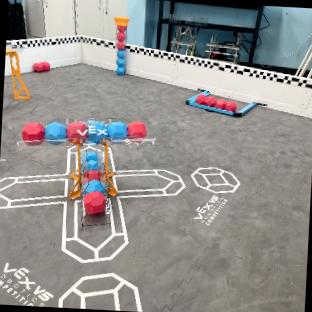Goal: (5, 49, 29, 99)
Med_goal: (16, 117, 155, 198)
Parking-R: (186, 90, 259, 115)
V5_BLUE: (87, 121, 108, 141), (44, 121, 65, 139), (108, 121, 126, 138), (116, 49, 125, 74)
V5_RED: (195, 94, 236, 111), (83, 190, 105, 215), (22, 122, 44, 143), (65, 122, 86, 137), (127, 122, 146, 137), (116, 26, 125, 48), (33, 62, 49, 71)
